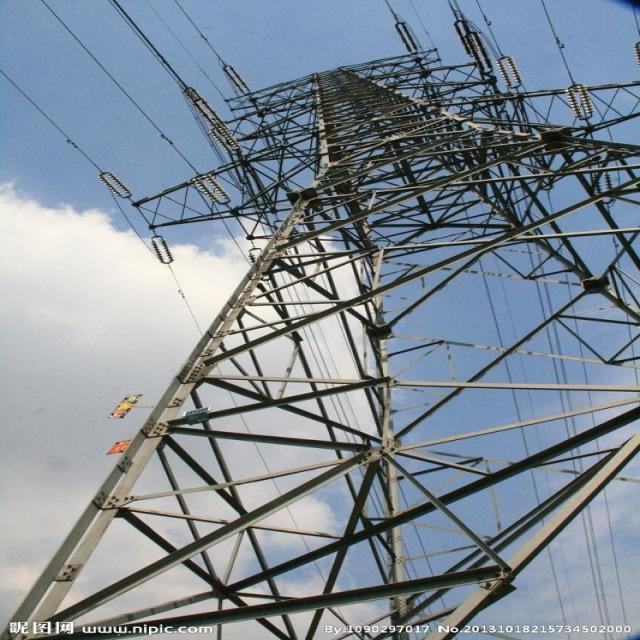non-critical vegetation: (144, 47, 635, 546)
